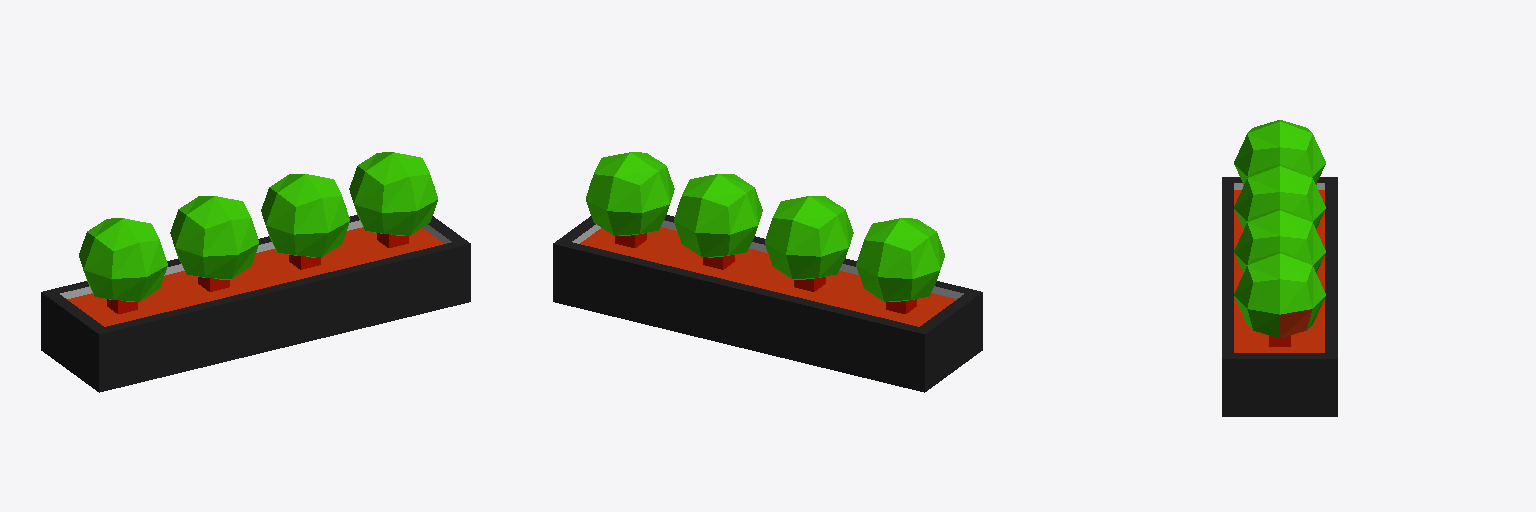
Rendered from tanamanPM3D_Cube3D1.OBJ.
3 renders of one model, left to right at view 1: azimuth 30°, elevation 25°; view 2: azimuth 150°, elevation 25°; view 3: azimuth 270°, elevation 25°, orthographic.
Visible parts, largest first — view 1: tanamanPM3D_Cube3D1; view 2: tanamanPM3D_Cube3D1; view 3: tanamanPM3D_Cube3D1.
Part boxes in pixels (left/top/right/bottom): tanamanPM3D_Cube3D1: left=41, top=152, right=470, bottom=392; tanamanPM3D_Cube3D1: left=553, top=152, right=982, bottom=392; tanamanPM3D_Cube3D1: left=1222, top=120, right=1337, bottom=416.
Bounding box in the file's own units: 3.78 × 1.36 × 1.02.